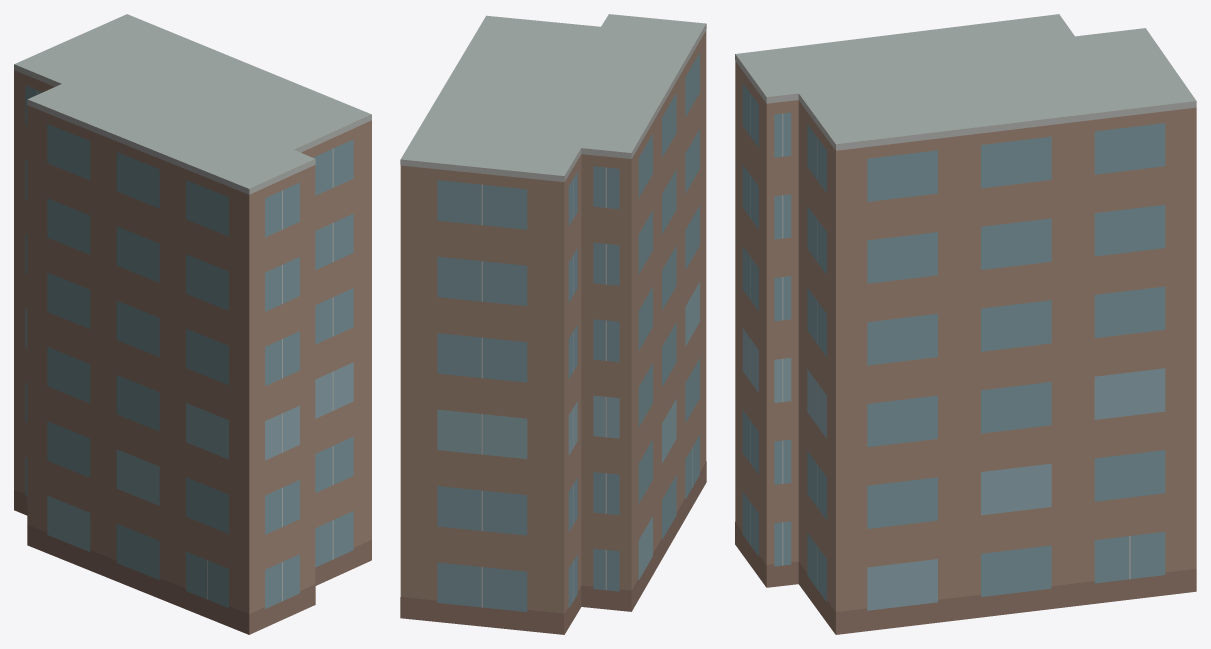
Rendered from survey-upis-32561519.glb.
3 views of the same model, side by side, from view 1: azimuth 30°, elevation 25°; view 2: azimuth 150°, elevation 25°; view 3: azimuth 270°, elevation 25° (orthographic). The views are drawn at different scales.
Parts seen in each view (by area): view 1: survey-upis-32561519.tmp; view 2: survey-upis-32561519.tmp; view 3: survey-upis-32561519.tmp.
Boxes of the visible parts, x1,y1,x2,y2 form: survey-upis-32561519.tmp: (14,14,371,634); survey-upis-32561519.tmp: (400,14,706,634); survey-upis-32561519.tmp: (735,14,1196,634).
Bounding box in the file's own units: 10.55 × 18.5 × 15.78.
